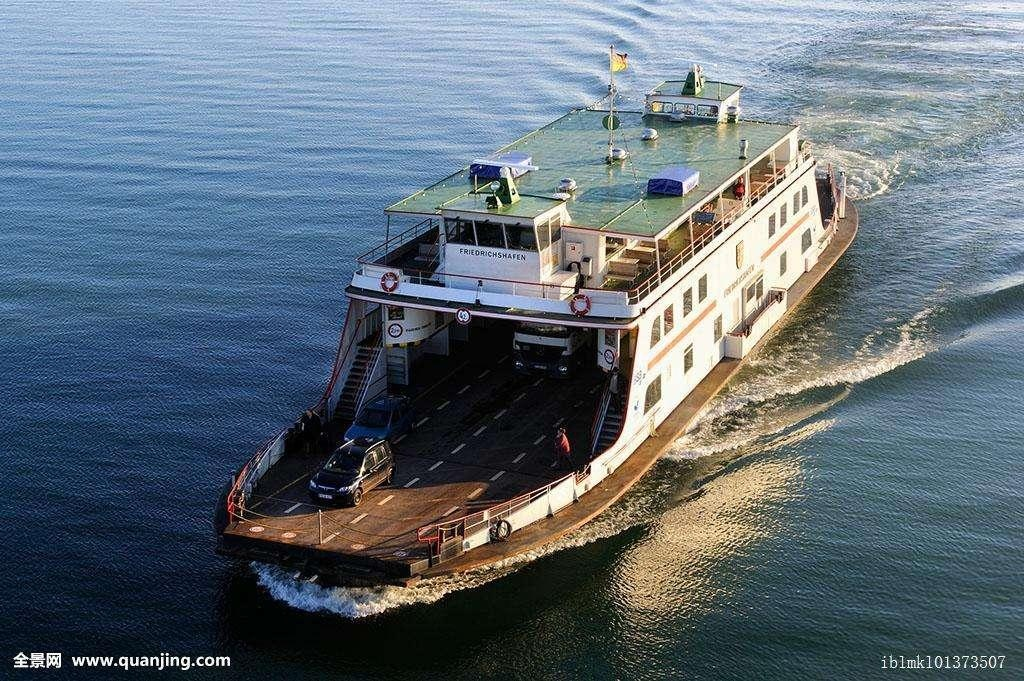otherboat: (203, 42, 872, 593)
